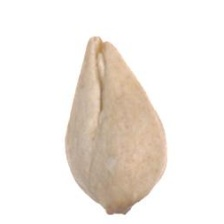L1: (90, 198, 145, 218), (84, 33, 113, 67)
L2: (65, 37, 169, 215)
